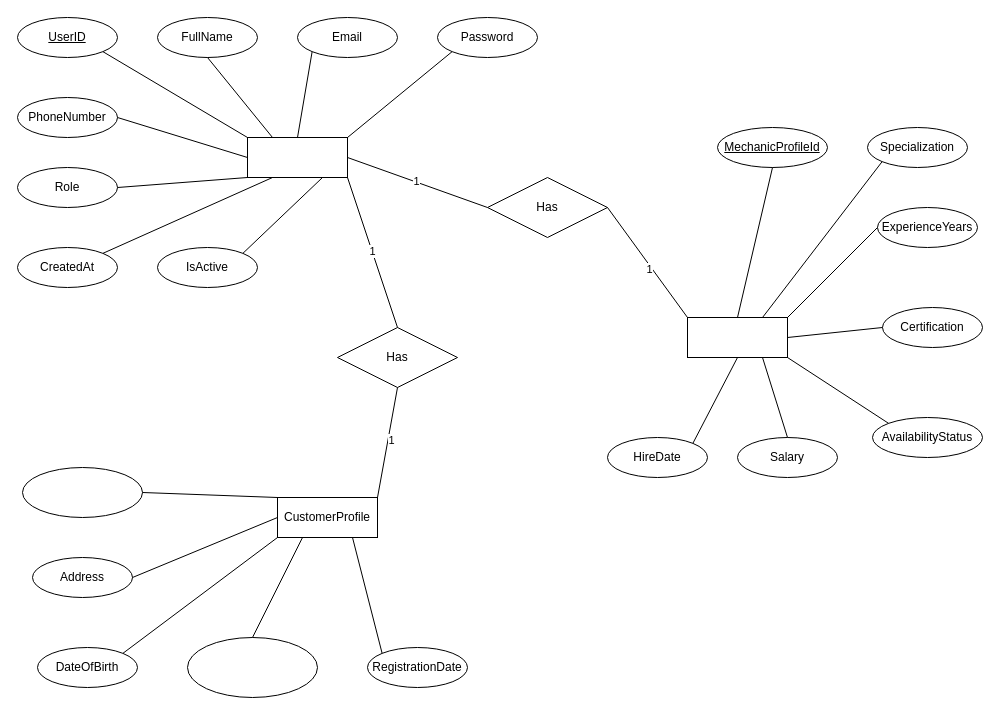
Some shapes in this 1000 by 715 pixel diagram are drawn without their labels. The shapes that lost their labels are listed below. From the top down, each one's centre as x and y in pixels, then its label:
[297,157]: User
[737,337]: MechanicProfile
[82,492]: CustomerProfileId
[252,667]: DrivingLicenseNumber
